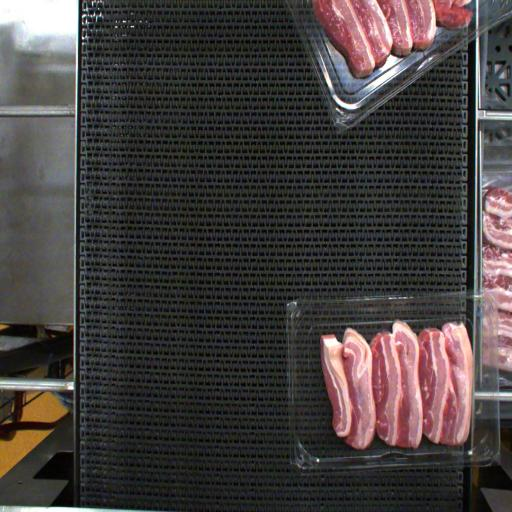twisted-meat: (322, 342, 358, 425)
